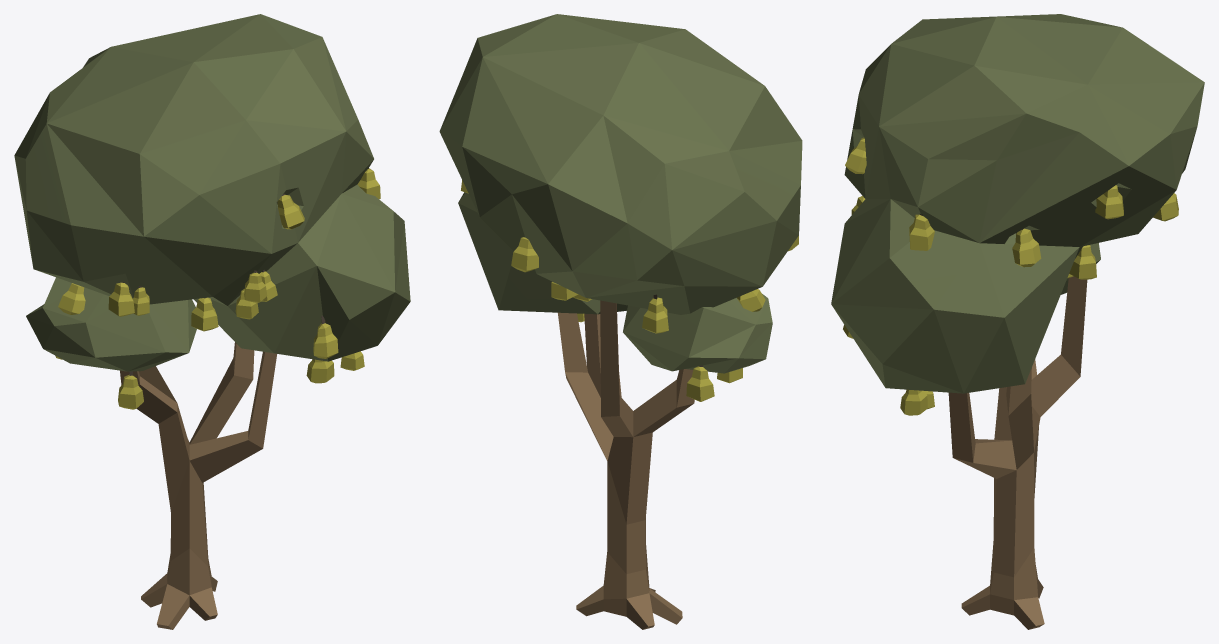
Rendered from pear_tree.glb.
3 renders of one model, left to right at view 1: azimuth 30°, elevation 25°; view 2: azimuth 150°, elevation 25°; view 3: azimuth 270°, elevation 25°, orthographic. The views are drawn at different scales.
Parts seen in each view (by area): view 1: SM_Env_Tree_Pear_Grown_01; view 2: SM_Env_Tree_Pear_Grown_01; view 3: SM_Env_Tree_Pear_Grown_01.
Part boxes in pixels (x1,y1,x2,y2): SM_Env_Tree_Pear_Grown_01: [14, 14, 410, 629]; SM_Env_Tree_Pear_Grown_01: [439, 14, 802, 629]; SM_Env_Tree_Pear_Grown_01: [831, 14, 1204, 629].
Bounding box in the file's own units: 2.39 × 3.82 × 2.15.
1 material, 1 textured.
